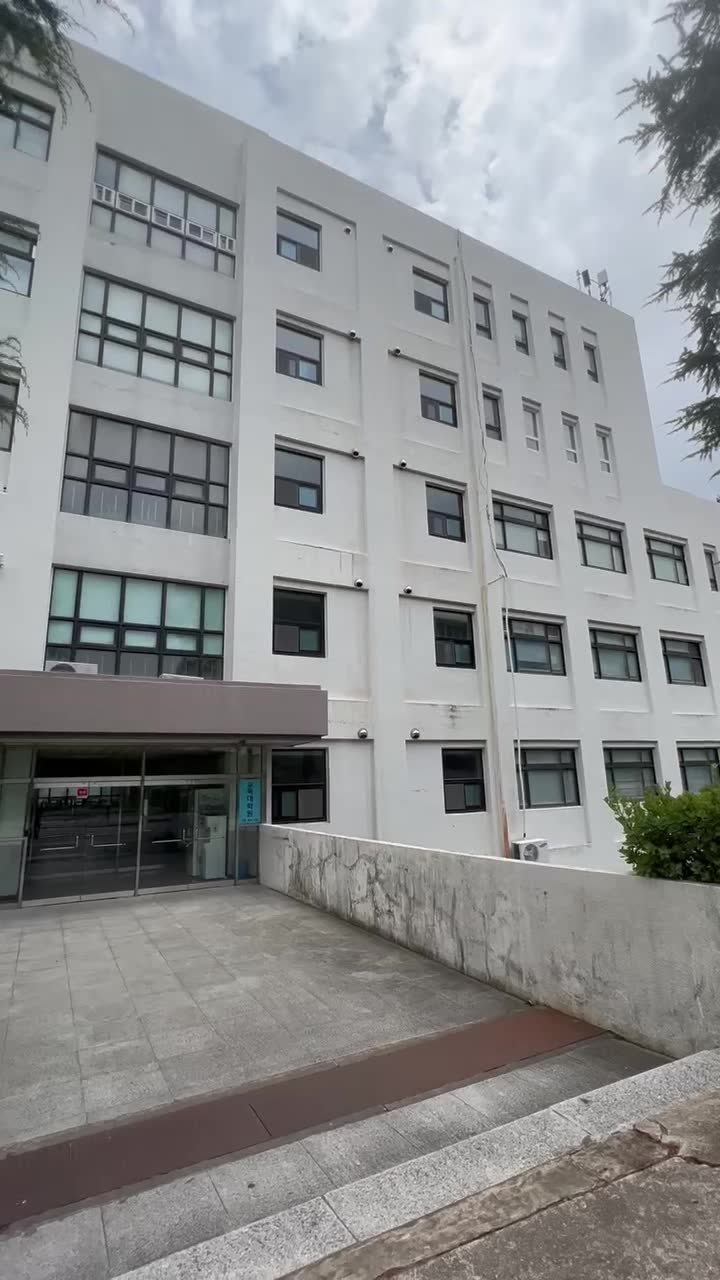medium: (30, 146, 626, 848)
